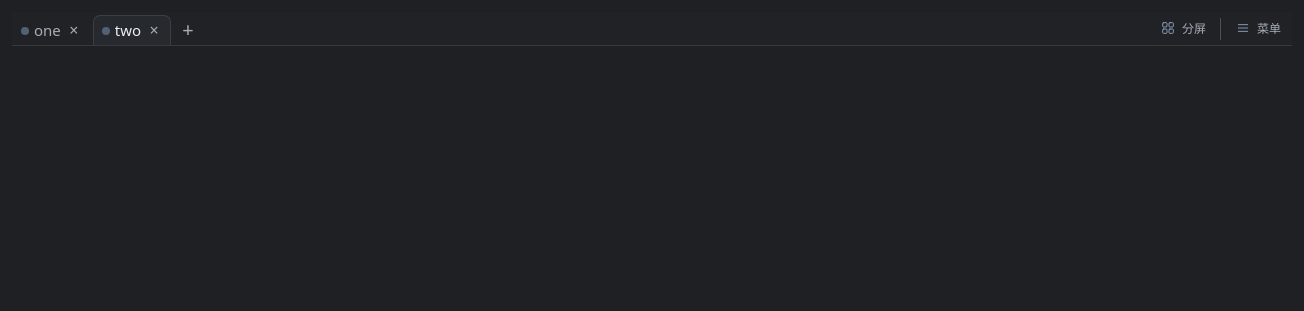
it: WorkspaceTabs › keeps split controls to the left of the global menu with a separator
The image size is (1304, 311).
Check: the 2nd icon with class "app-icon" is shown, box left=1235, top=20, right=1251, bottom=36
Check: the 1st icon with class "app-icon" is shown, box left=1160, top=20, right=1176, bottom=36
Click the button with class "split-mode-button": (1183, 28) left=1149, top=12, right=1217, bottom=45
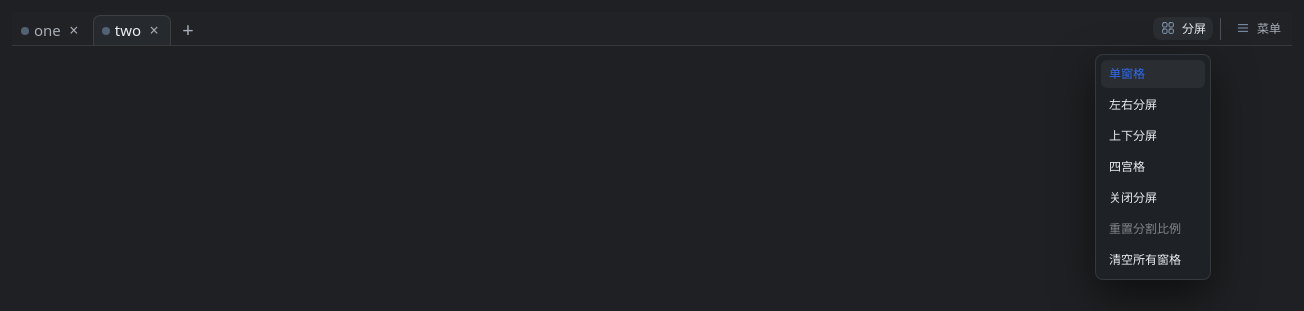
Check: the button "单窗格" is shown, box left=1101, top=60, right=1205, bottom=88
